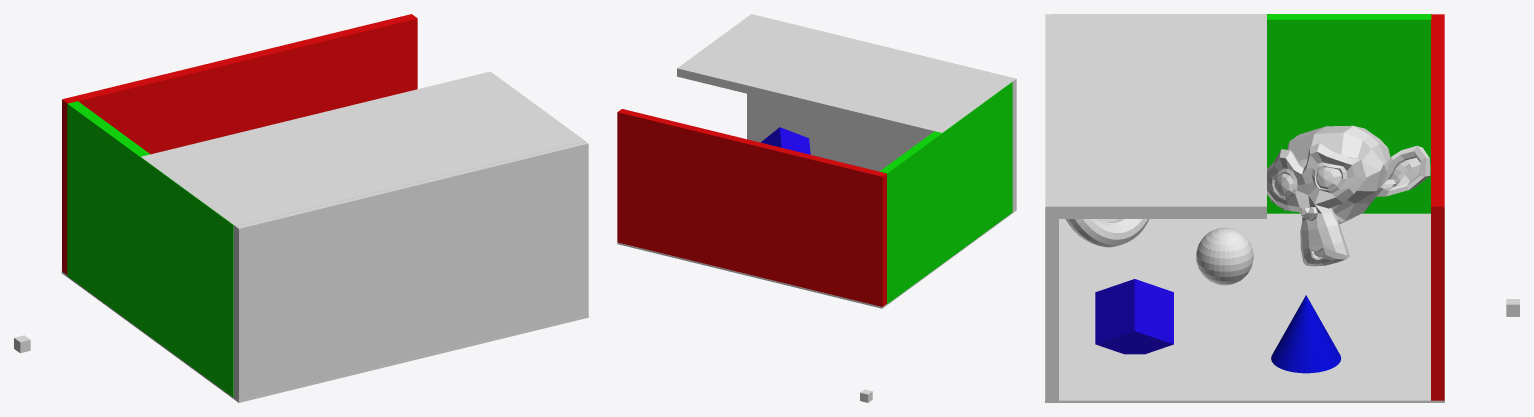
The picture shows the model from 3 angles, left to right: view 1: azimuth 30°, elevation 25°; view 2: azimuth 150°, elevation 25°; view 3: azimuth 270°, elevation 25°; orthographic projection. The views are drawn at different scales.
Parts seen in each view (by area): view 1: Cube.001, Cube.004, Cube.003, Cube.002, Cube; view 2: Cube.002, Cube.004, Cube.003, Cube.001, Cube, Cube.005; view 3: Cube, Cube.004, Cube.003, Suzanne, Cube.002, Cube.005, Cube.001, Cone, Sphere, Torus.
Boxes of the visible parts, box(x1,y1,x2,y2) form: Cube.001: box(233, 141, 588, 400); Cube.004: box(141, 71, 585, 233); Cube.003: box(67, 101, 233, 396); Cube.002: box(62, 14, 417, 274); Cube: box(61, 271, 588, 402); Cube.002: box(617, 109, 886, 306); Cube.004: box(677, 15, 1013, 137); Cube.003: box(880, 82, 1012, 303); Cube.001: box(747, 14, 1016, 211); Cube: box(617, 209, 1016, 308); Cube.005: box(761, 127, 810, 154); Cube: box(1045, 208, 1444, 402); Cube.004: box(1052, 14, 1266, 218); Cube.003: box(1267, 14, 1431, 213); Suzanne: box(1267, 125, 1430, 266); Cube.002: box(1431, 14, 1444, 400); Cube.005: box(1095, 279, 1173, 354); Cube.001: box(1045, 14, 1058, 400); Cone: box(1271, 295, 1341, 373); Sphere: box(1196, 227, 1253, 285); Torus: box(1065, 219, 1149, 247).
Bounding box in the file's own units: 69.29 × 49.2 × 69.36.
